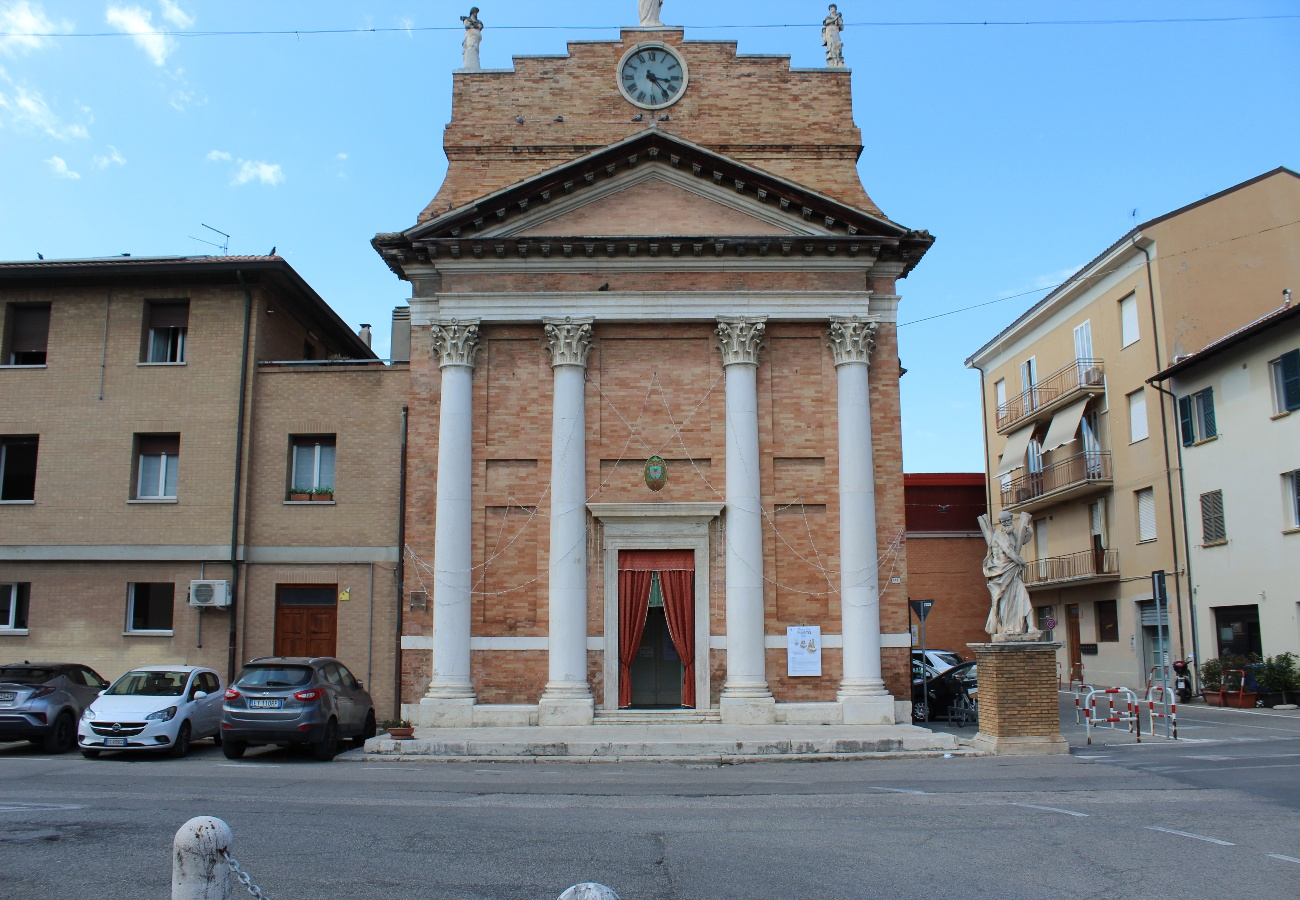Parrocchia Santa Maria: (389, 31, 934, 748)
